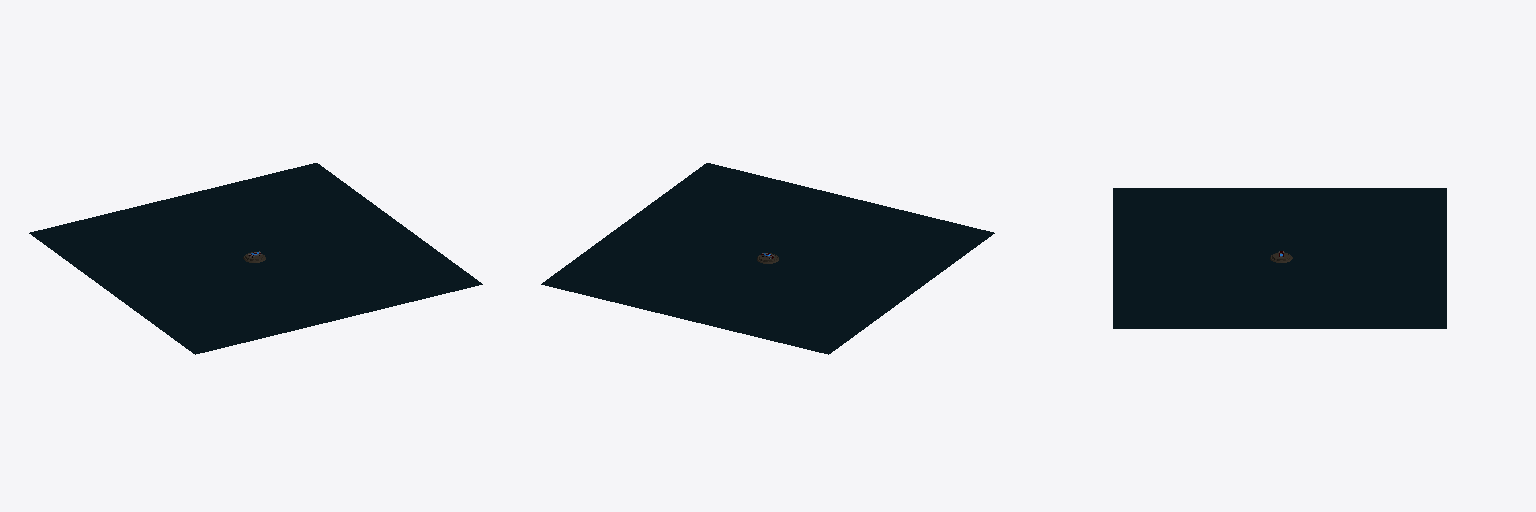
Rendered from car2.obj.
The picture shows the model from 3 angles: view 1: azimuth 30°, elevation 25°; view 2: azimuth 150°, elevation 25°; view 3: azimuth 270°, elevation 25°; orthographic projection.
Parts seen in each view (by area): view 1: Plane; view 2: Plane; view 3: Plane.
Boxes of the visible parts, <box> form: Plane: <box>29,163,482,354</box>; Plane: <box>541,163,994,354</box>; Plane: <box>1113,188,1446,328</box>.
Bounding box in the file's own units: 166 × 2.96 × 166.